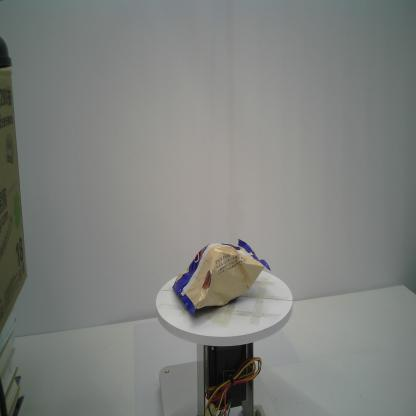Dessert: (169, 236, 271, 316)
